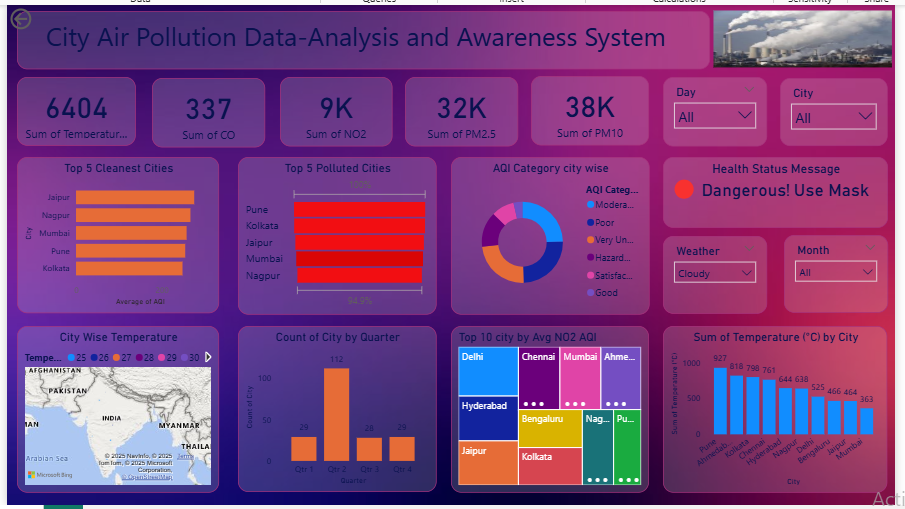

The dashboard page shown, as its layout file describes it:
{"tool":"powerbi","page":{"name":"Page 1","canvas":[1280,720],"ordinal":0},"visuals":[{"type":"image","box":[1012.9,3.4,267.1,92.4],"z":0},{"type":"textbox","box":[15.1,8.4,997.8,84],"z":1000},{"type":"card","fields":{"Values":["Sum(Sheet1.Temperature (°C))"]},"box":[15.1,104.1,171.3,99.1],"z":2000},{"type":"card","fields":{"Values":["Sum(Sheet1.CO)"]},"box":[208.3,105,163.3,100],"z":3000},{"type":"card","fields":{"Values":["Sum(Sheet1.NO2)"]},"box":[393.3,103.3,161.7,100],"z":4000},{"type":"card","fields":{"Values":["Sum(Sheet1.PM2.5)"]},"box":[573.3,103.3,163.3,100],"z":5000},{"type":"card","fields":{"Values":["Sum(Sheet1.PM10)"]},"box":[755,101.7,170,100],"z":6000},{"type":"actionButton","box":[0,0,100,40],"z":7000},{"type":"slicer","fields":{"Values":["Sheet1.Date.Variation.Date Hierarchy.Day"]},"box":[945,103.3,150,100],"z":8000},{"type":"filledMap","title":"City Wise Temperature","fields":{"Category":["Sheet1.City"],"Series":["Sheet1.Temperature (°C)"]},"box":[14.8,462.3,291.2,240.2],"z":9000},{"type":"slicer","fields":{"Values":["Sheet1.City"]},"box":[1113.3,105,155,98.3],"z":10000},{"type":"columnChart","fields":{"Category":["Sheet1.Date.Variation.Date Hierarchy.Quarter"],"Y":["CountNonNull(Sheet1.City)"]},"box":[332.1,462.5,285.7,239.3],"z":11000},{"type":"slicer","fields":{"Values":["Sheet1.Weather"]},"box":[945,333.3,150,111.7],"z":12000},{"type":"donutChart","title":" AQI Category city wise ","fields":{"Y":["CountNonNull(Sheet1.City)"],"Category":["Sheet1.AQI Category"]},"box":[640,218.4,285.6,226.8],"z":13000},{"type":"treemap","title":"   Top 10 city by Avg NO2 AQI","fields":{"Group":["Sheet1.City"],"Values":["Avg(Sheet1.NO2)"]},"box":[640,462.3,284.6,240.2],"z":14000},{"type":"funnel","title":"Top 5 Polluted Cities","fields":{"Category":["Sheet1.City"],"Y":["Max(Sheet1.AQI)"]},"box":[332.6,218.4,285.6,226.8],"z":15000},{"type":"slicer","fields":{"Values":["Sheet1.Date.Variation.Date Hierarchy.Month"]},"box":[1118.3,331.7,150,111.7],"z":16000},{"type":"columnChart","fields":{"Category":["Sheet1.City"],"Y":["Sum(Sheet1.Temperature (°C))"]},"box":[945,461.7,323.3,240],"z":17000},{"type":"multiRowCard","title":"Health Status Message","fields":{"Values":["Sheet1.HealthStatusMessage"]},"box":[944.4,218.8,324.1,102],"z":18000},{"type":"barChart","title":"Top 5 Cleanest Cities","fields":{"Category":["Sheet1.City"],"Y":["Avg(Sheet1.AQI)"]},"box":[14,218.8,291.2,225.4],"z":19000}]}

Visuals, with their boxes on the page's 1280x720 design canvas (x1, y1, x2, y2). These are canvas units, not pixel positions in the 905x509 screenshot, which may show the page scaled, cropped or inside an application window:
image: 1013/3/1280/96
textbox: 15/8/1013/92
card - Sum(Sheet1.Temperature (°C)): 15/104/186/203
card - Sum(Sheet1.CO): 208/105/372/205
card - Sum(Sheet1.NO2): 393/103/555/203
card - Sum(Sheet1.PM2.5): 573/103/737/203
card - Sum(Sheet1.PM10): 755/102/925/202
actionButton: 0/0/100/40
slicer - Sheet1.Date.Variation.Date Hierarchy.Day: 945/103/1095/203
"City Wise Temperature" filledMap: 15/462/306/702
slicer - Sheet1.City: 1113/105/1268/203
columnChart - Sheet1.Date.Variation.Date Hierarchy.Quarter x CountNonNull(Sheet1.City): 332/462/618/702
slicer - Sheet1.Weather: 945/333/1095/445
" AQI Category city wise " donutChart: 640/218/926/445
"   Top 10 city by Avg NO2 AQI" treemap: 640/462/925/702
"Top 5 Polluted Cities" funnel: 333/218/618/445
slicer - Sheet1.Date.Variation.Date Hierarchy.Month: 1118/332/1268/443
columnChart - Sheet1.City x Sum(Sheet1.Temperature (°C)): 945/462/1268/702
"Health Status Message" multiRowCard: 944/219/1268/321
"Top 5 Cleanest Cities" barChart: 14/219/305/444
